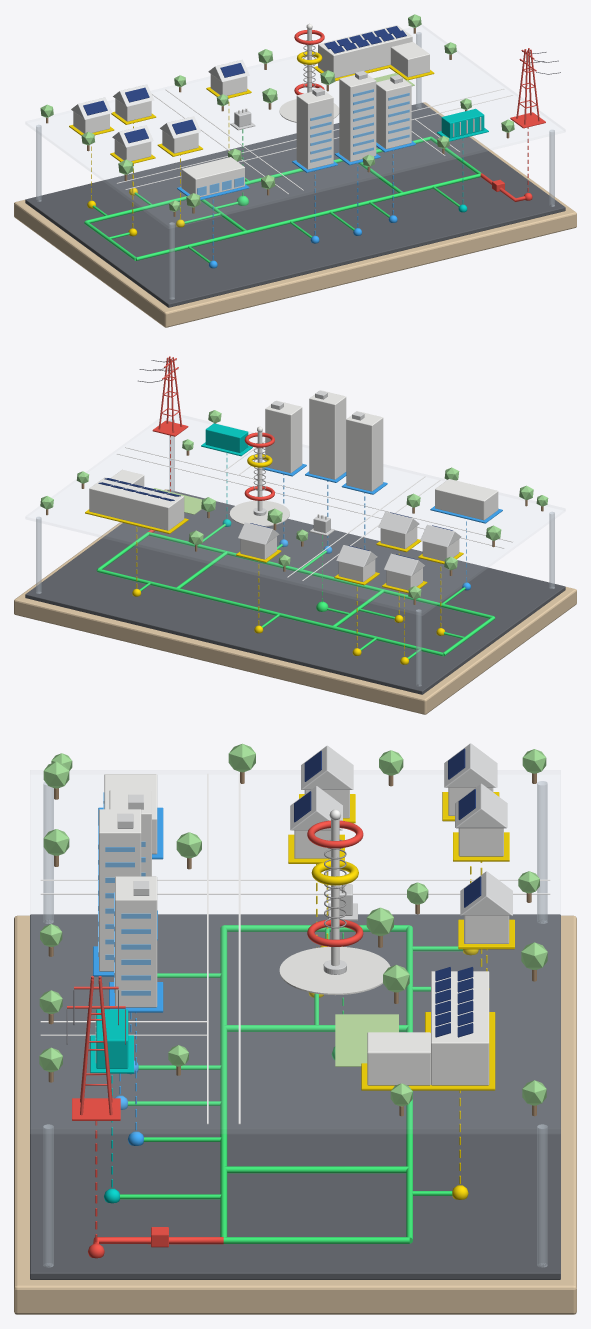
File: town.glb
3 renders of one model, top to bottom at view 1: azimuth 30°, elevation 25°; view 2: azimuth 150°, elevation 25°; view 3: azimuth 270°, elevation 25°, orthographic. The views are drawn at different scales.
Visible parts, largest first — view 1: 지하배전망층_판, 마을층_투명아크릴판, 받침대_자작나무, 아파트_102동_동, 아파트_101동_동, 학교_본관, 아파트_103동_동, 상가_건물, 지중간선_0, 학교_별관, ESS_컨테이너, 지중간선_1 (+8 smaller); view 2: 지하배전망층_판, 마을층_투명아크릴판, 받침대_자작나무, 학교_본관, 아파트_102동_동, 아파트_101동_동, 아파트_103동_동, 상가_건물, 지중간선_1, 지중간선_0, 가격밴드탑_광장, ESS_컨테이너 (+14 smaller); view 3: 지하배전망층_판, 마을층_투명아크릴판, 받침대_자작나무, 학교_본관, 아파트_103동_동, 가격밴드탑_광장, 아파트_102동_동, 학교_별관, 지중간선_0, 학교_운동장, ESS_컨테이너, 지중간선_1 (+27 smaller).
Boxes of the visible parts, x1,y1,x2,y2 form: 지하배전망층_판: (25,102,565,307); 마을층_투명아크릴판: (26,25,564,228); 받침대_자작나무: (14,102,576,327); 아파트_102동_동: (339,75,376,161); 아파트_101동_동: (296,91,333,169); 학교_본관: (318,25,412,78); 아파트_103동_동: (376,78,411,149); 상가_건물: (181,157,244,197); 지중간선_0: (136,173,480,260); 학교_별관: (390,41,429,77); ESS_컨테이너: (441,108,484,138); 지중간선_1: (85,136,430,223); 지하배전망층_판: (25,489,565,694); 마을층_투명아크릴판: (26,412,564,615); 받침대_자작나무: (14,489,576,714); 학교_본관: (89,477,184,530); 아파트_102동_동: (309,390,346,479); 아파트_101동_동: (346,411,383,491); 아파트_103동_동: (265,400,302,473); 상가_건물: (435,479,498,520); 지중간선_1: (97,568,443,656); 지중간선_0: (148,532,494,618); 가격밴드탑_광장: (229,500,289,526); ESS_컨테이너: (205,423,248,452); 지하배전망층_판: (30,914,560,1279); 마을층_투명아크릴판: (30,770,560,1133); 받침대_자작나무: (14,915,576,1314); 학교_본관: (431,971,489,1085); 아파트_103동_동: (115,876,157,1007); 가격밴드탑_광장: (279,946,390,995); 아파트_102동_동: (99,809,141,971); 학교_별관: (367,1032,430,1085); 지중간선_0: (220,925,227,1237); 학교_운동장: (335,1014,398,1066); ESS_컨테이너: (96,1009,128,1068); 지중간선_1: (406,925,412,1243).
Bounding box in the file's own units: 16.6 × 7.11 × 10.6.
